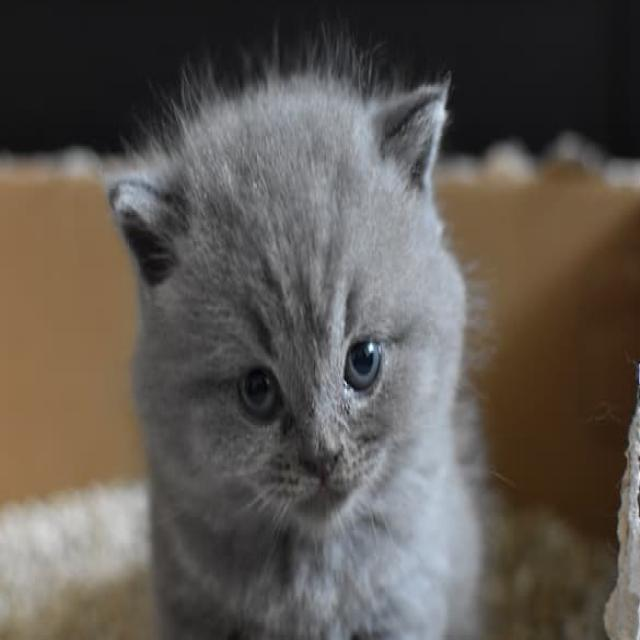Scottish Fold: (106, 67, 490, 640)
